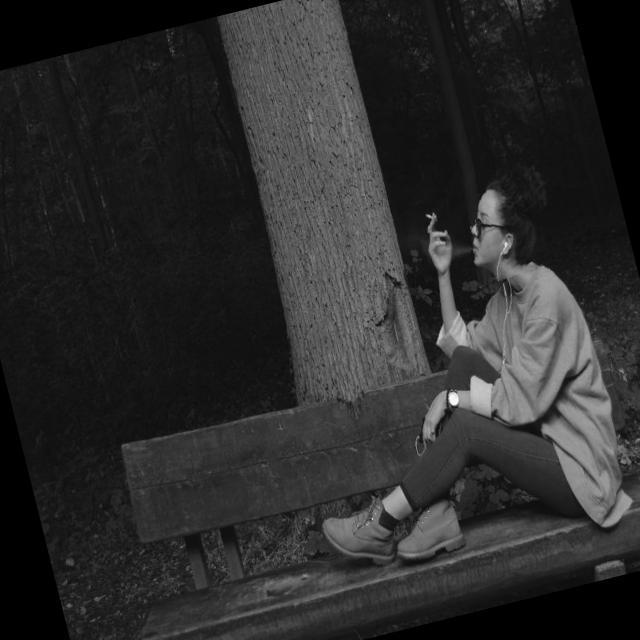cigarette: (416, 198, 444, 234)
